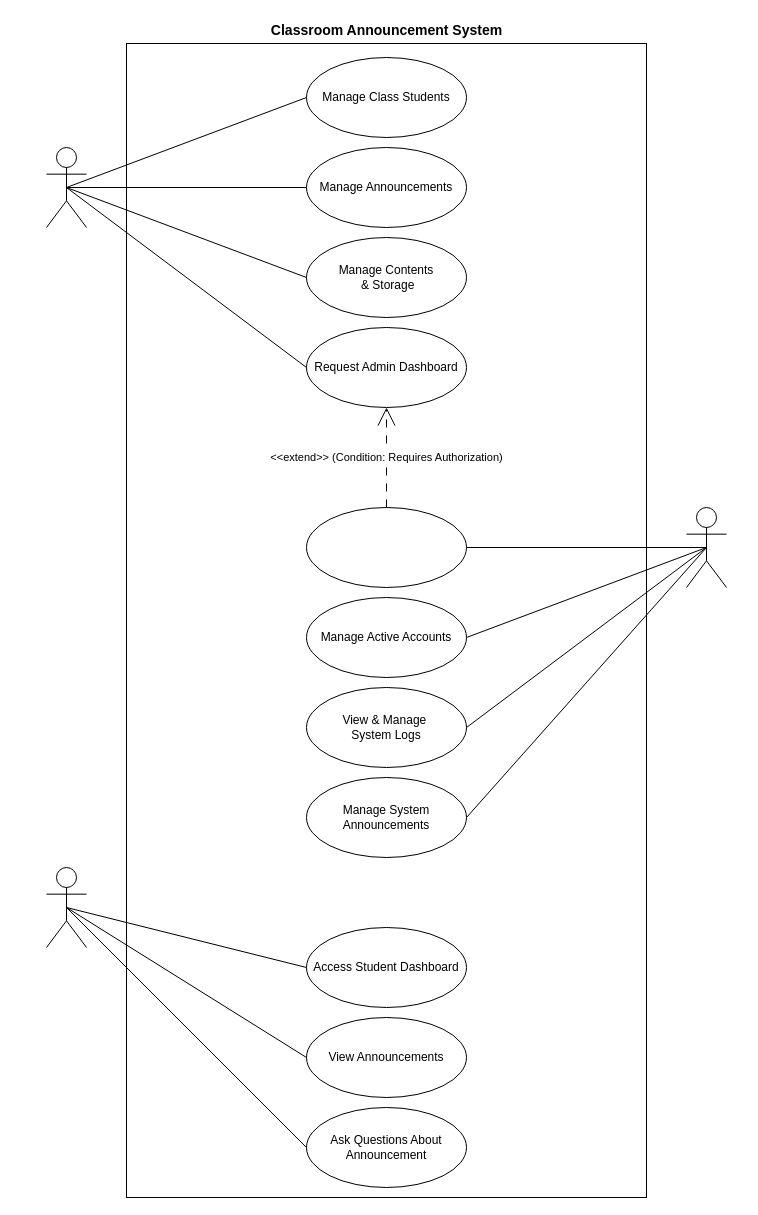
Some shapes in this 758 by 1215 pixel diagram are drawn without their labels. Here are the shapes that lost their labels. From the top down, the box of each, then its label:
(46, 146, 86, 228): Classroom Officer/ Teacher
(306, 506, 466, 588): Authorize Admin Access
(686, 506, 726, 588): Super Admin
(46, 866, 86, 948): Students
